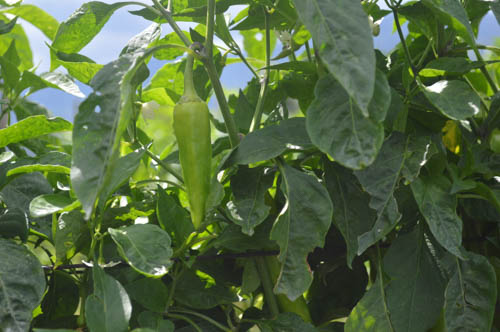ChiliPepper: (172, 104, 211, 228)
